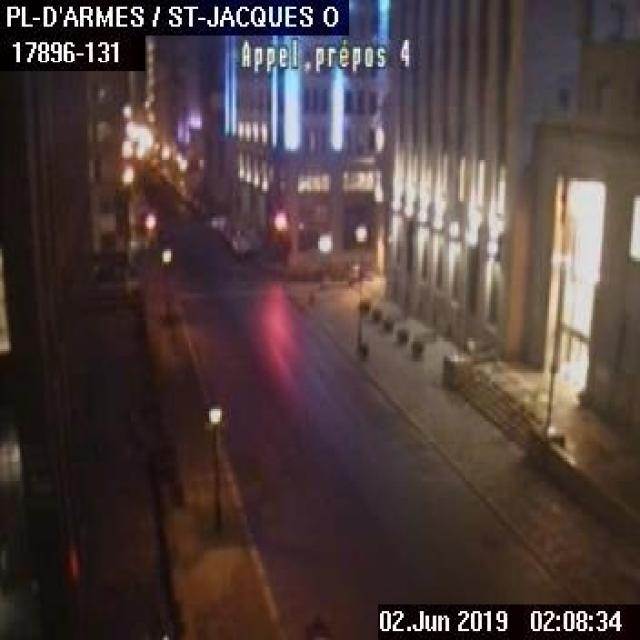vehicle: (131, 144, 145, 160)
